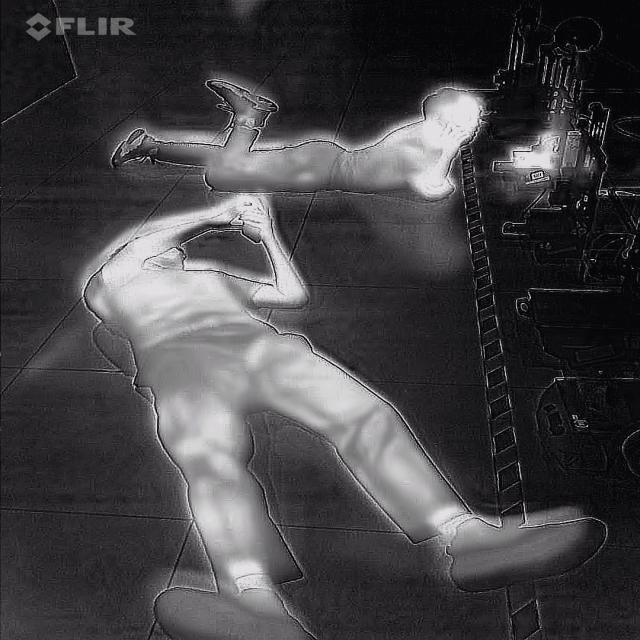Victim: (78, 193, 616, 638), (100, 75, 495, 206)
